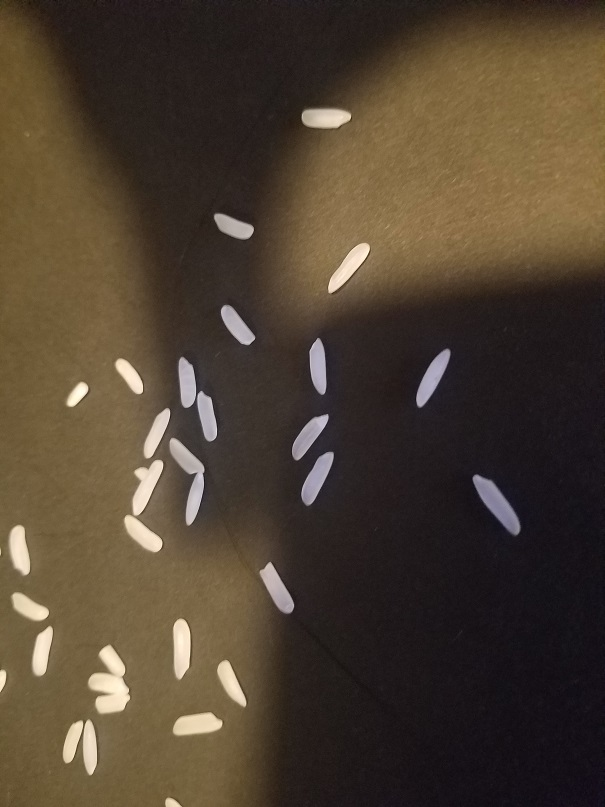egg: (470, 471, 523, 540), (324, 242, 373, 297), (412, 348, 453, 406), (124, 459, 162, 519), (288, 411, 331, 462), (257, 559, 295, 616), (295, 451, 333, 508), (218, 301, 257, 351), (140, 405, 172, 461), (120, 514, 163, 555), (179, 471, 208, 529), (5, 522, 35, 578), (216, 658, 251, 705), (170, 617, 195, 681), (110, 358, 147, 399), (169, 710, 225, 737), (210, 209, 255, 242), (167, 438, 208, 473), (29, 623, 55, 678), (306, 336, 328, 401), (195, 388, 220, 445), (296, 105, 353, 129), (10, 592, 49, 625), (175, 354, 196, 412), (60, 721, 86, 767), (80, 720, 100, 778), (85, 671, 131, 694), (97, 643, 128, 677), (63, 379, 92, 410), (94, 692, 131, 714), (129, 465, 151, 482), (1, 666, 12, 698), (163, 797, 180, 807)
